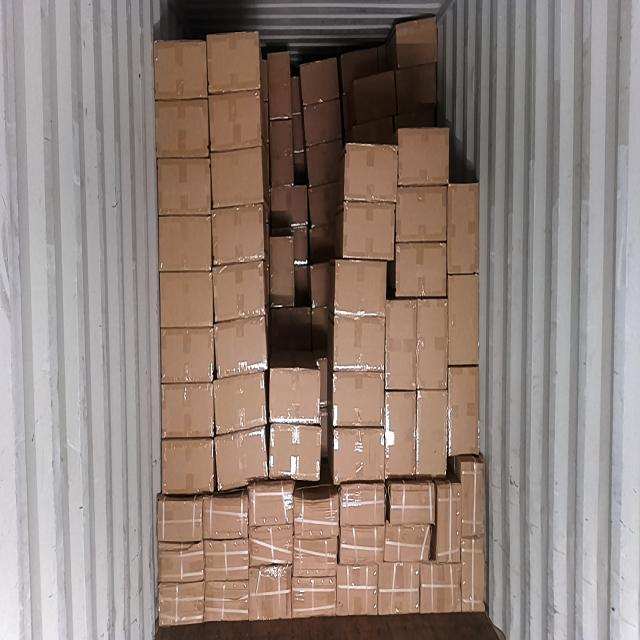carton: (156, 95, 210, 158), (344, 140, 398, 201), (212, 262, 266, 322), (212, 203, 263, 266), (153, 38, 208, 96), (159, 270, 214, 328), (160, 438, 214, 496), (336, 257, 388, 315), (218, 428, 267, 489), (272, 421, 320, 483), (208, 34, 261, 90), (343, 200, 396, 256), (158, 159, 210, 216), (334, 312, 386, 369), (212, 146, 263, 204), (334, 369, 385, 427), (448, 274, 480, 366), (217, 317, 266, 377), (212, 92, 261, 152), (448, 184, 481, 273), (394, 242, 448, 296), (396, 185, 448, 241), (162, 383, 214, 438), (162, 327, 214, 382), (270, 368, 322, 423), (449, 364, 480, 456), (158, 217, 211, 270), (398, 127, 450, 181), (387, 300, 418, 390), (385, 392, 417, 479), (417, 389, 448, 478), (213, 380, 266, 432), (419, 296, 448, 390), (335, 427, 385, 481), (378, 564, 421, 614), (338, 562, 378, 615), (396, 18, 438, 68), (421, 562, 462, 613), (204, 494, 248, 540), (293, 493, 339, 537), (462, 536, 488, 613), (436, 486, 461, 566), (249, 569, 291, 616), (460, 461, 485, 539), (250, 483, 294, 527), (156, 499, 202, 541), (157, 581, 203, 623), (157, 542, 205, 582), (390, 483, 436, 524), (204, 581, 250, 622), (266, 238, 294, 300), (340, 484, 384, 523), (386, 523, 432, 560), (292, 537, 340, 572), (204, 542, 248, 580), (293, 578, 337, 616), (302, 58, 338, 104), (340, 528, 386, 563), (251, 524, 292, 563), (306, 104, 342, 145), (306, 146, 341, 188), (271, 120, 292, 188), (269, 52, 290, 118)
